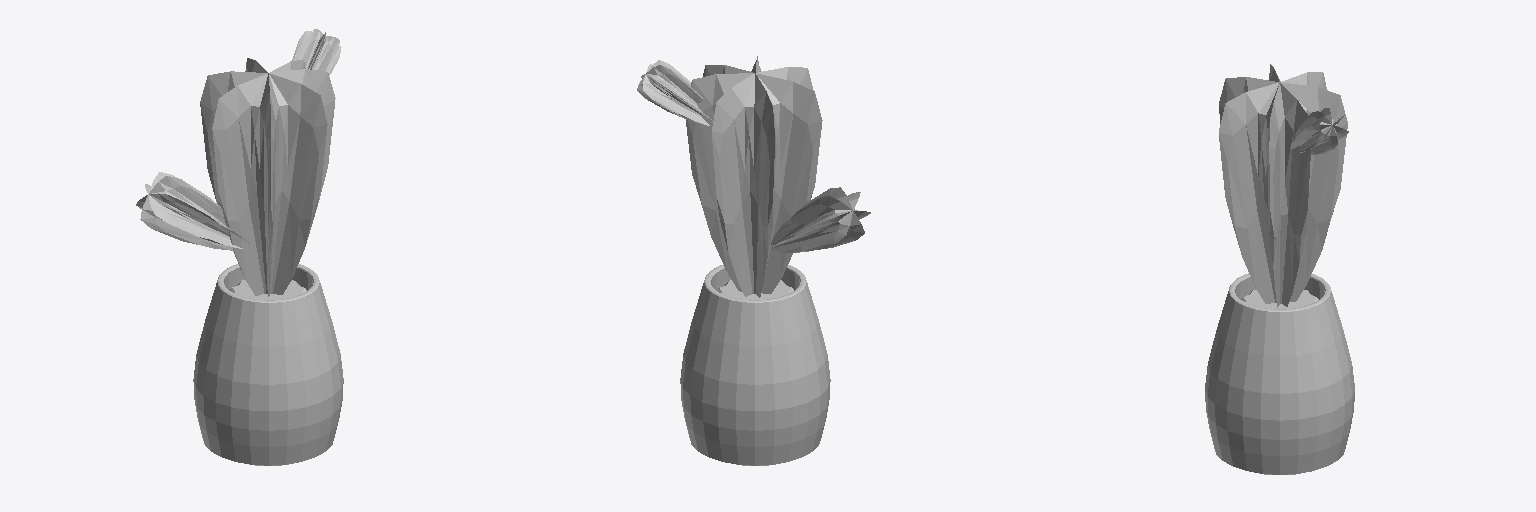
Rendered from cactus_plant.obj.
The picture shows the model from 3 angles: view 1: azimuth 30°, elevation 25°; view 2: azimuth 150°, elevation 25°; view 3: azimuth 270°, elevation 25°; orthographic projection.
Visible parts, largest first — view 1: pCone7; view 2: pCone7; view 3: pCone7.
Part boxes in pixels (x1,y1,x2,y2): pCone7: (136, 29, 343, 465); pCone7: (637, 56, 870, 465); pCone7: (1205, 64, 1354, 474).
Size of the model in its own units: 2.42 by 4.12 by 1.48.